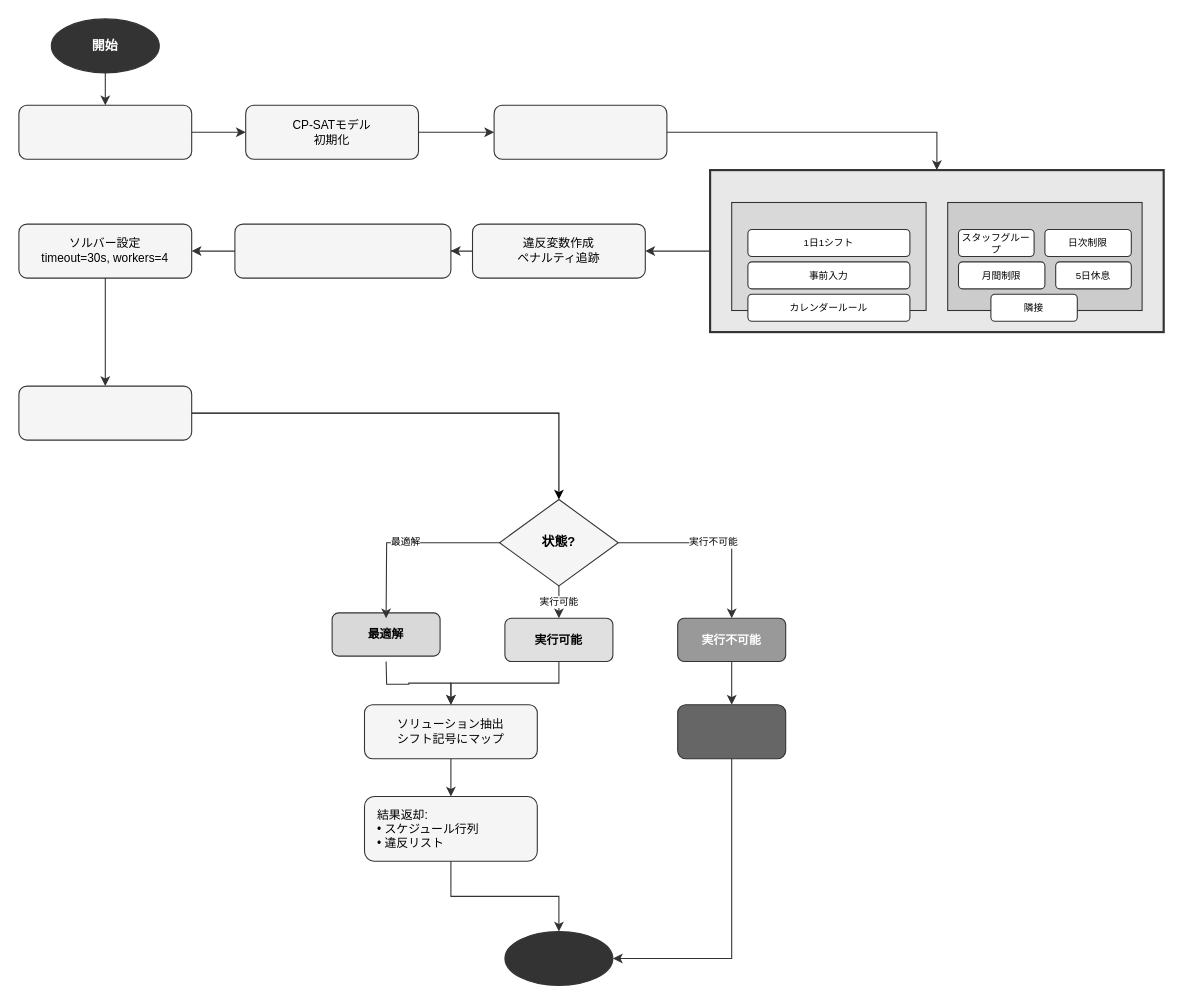
The diagram is 1184 pixels wide and 1004 high, and some of its shapes have lost their labels. The shapes that lost their labels are listed below. From the top down, each one's box as (x1, y1, x2, y2) in pixels, then its label:
(18, 104, 192, 159): 入力: スタッフ, 日付, 制約, 事前入力
(493, 104, 667, 159): 決定変数作成 shifts[s,d,t] ∈ {0,1}
(234, 223, 451, 278): 目的関数構築 最小化 Σ(重み × 違反)
(731, 201, 926, 310): ハード制約
(708, 168, 1164, 333): 制約追加
(947, 201, 1142, 310): ソフト制約
(18, 385, 192, 440): CP-SATソルバー 実行
(677, 704, 786, 759): エラー 返却
(504, 930, 613, 986): 終了
